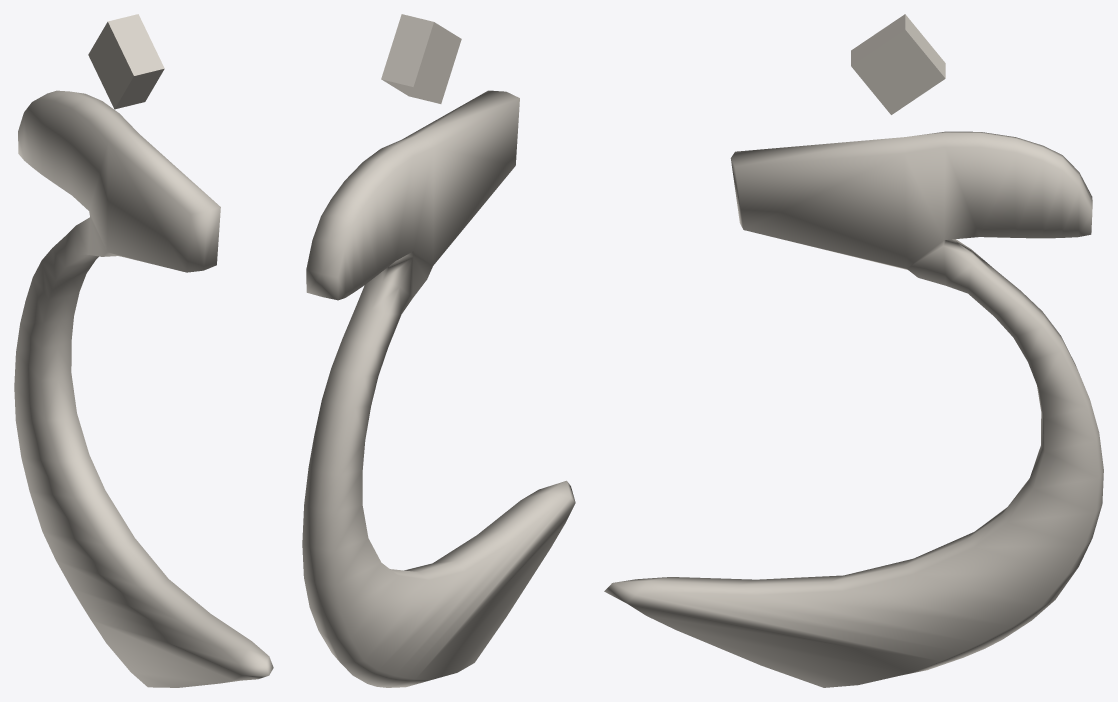
Rendered from hha.FBX.
The picture shows the model from 3 angles, left to right: view 1: azimuth 30°, elevation 25°; view 2: azimuth 150°, elevation 25°; view 3: azimuth 270°, elevation 25°; orthographic projection. The views are drawn at different scales.
Parts seen in each view (by area): view 1: hha; view 2: hha; view 3: hha.
Boxes of the visible parts, bbox=[...] form: hha: bbox=[14, 14, 273, 687]; hha: bbox=[302, 14, 575, 687]; hha: bbox=[604, 14, 1103, 687].
Size of the model in its own units: 12.96 by 173 by 252.
1 material, 1 textured.
